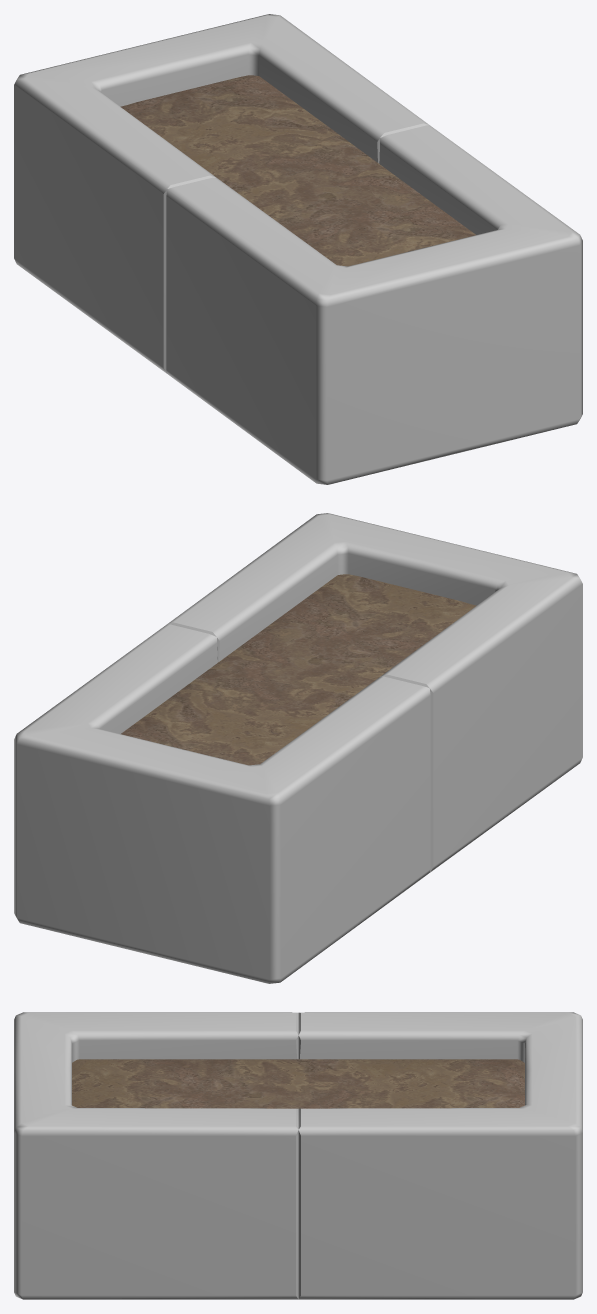
File: SM_Rect_Base_1X2.fbx
3 views of the same model, one above another, from view 1: azimuth 30°, elevation 25°; view 2: azimuth 150°, elevation 25°; view 3: azimuth 270°, elevation 25° (orthographic). The views are drawn at different scales.
Visible parts, largest first — view 1: SM_Rect_Base_1X2_LOD0; view 2: SM_Rect_Base_1X2_LOD0; view 3: SM_Rect_Base_1X2_LOD0.
Boxes of the visible parts, bbox=[...] form: SM_Rect_Base_1X2_LOD0: bbox=[14, 14, 582, 484]; SM_Rect_Base_1X2_LOD0: bbox=[14, 513, 582, 983]; SM_Rect_Base_1X2_LOD0: bbox=[14, 1012, 582, 1299].
Size of the model in its own units: 98.84 by 199 by 66.6.
